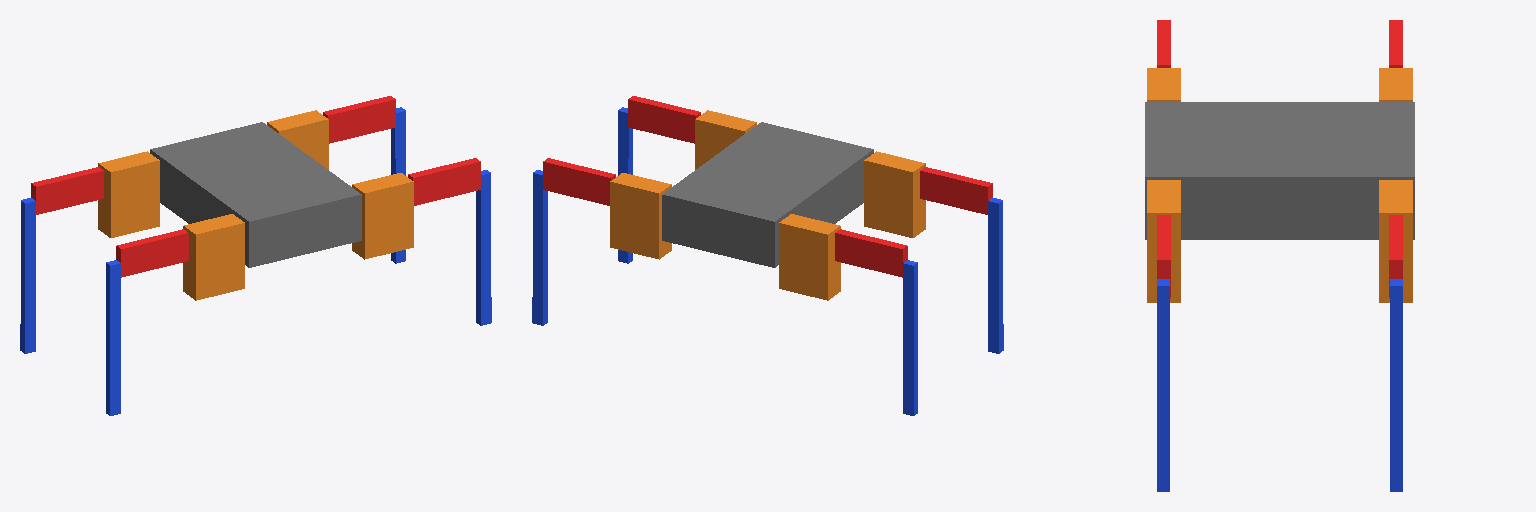
The robot description file, URDF, robot "spider_robot":
<?xml version="1.0"?>
<robot name="spider_robot">

  <!-- ==================== BASE LINK ==================== -->
  <link name="base_link">
    <inertial>
      <origin xyz="0 0 0" rpy="0 0 0"/>
      <mass value="0.5"/>
      <inertia ixx="0.001" ixy="0" ixz="0" iyy="0.0015" iyz="0" izz="0.001"/>
    </inertial>
    <visual>
      <origin xyz="0 0 0" rpy="0 0 0"/>
      <geometry>
        <box size="0.0625 0.0955 0.0246"/>
      </geometry>
      <material name="grey">
        <color rgba="0.5 0.5 0.5 1"/>
      </material>
    </visual>
    <collision>
      <origin xyz="0 0 0" rpy="0 0 0"/>
      <geometry>
        <box size="0.0625 0.0955 0.0246"/>
      </geometry>
    </collision>
  </link>

  <!-- ==================== FRONT LEFT LEG ==================== -->
  
  <!-- FL Hip Joint and Link -->
  <joint name="FL_hip_joint" type="revolute">
    <origin xyz="0.03125 0.04100 0.012" rpy="0 0 0"/>
    <parent link="base_link"/>
    <child link="FL_hip_link"/>
    <axis xyz="0 0 1"/>
    <limit lower="-0.785" upper="0.785" effort="20" velocity="1.57"/>
  </joint>

  <link name="FL_hip_link">
    <inertial>
      <origin xyz="0.01565 0 -0.01755" rpy="0 0 0"/>
      <mass value="0.05"/>
      <inertia ixx="0.00005" ixy="0" ixz="0" iyy="0.00007" iyz="0" izz="0.00005"/>
    </inertial>
    <visual>
      <origin xyz="0.01565 0 -0.01755" rpy="0 0 0"/>
      <geometry>
        <box size="0.0273 0.012 0.0351"/>
      </geometry>
      <material name="orange">
        <color rgba="1 0.6 0.2 1"/>
      </material>
    </visual>
    <collision>
      <origin xyz="0.01565 0 -0.01755" rpy="0 0 0"/>
      <geometry>
        <box size="0.0273 0.012 0.0351"/>
      </geometry>
    </collision>
  </link>

  <!-- FL Thigh Joint and Link -->
  <joint name="FL_thigh_joint" type="revolute">
    <origin xyz="0.03115 0 -0.0075" rpy="0 0 0"/>
    <parent link="FL_hip_link"/>
    <child link="FL_thigh_link"/>
    <axis xyz="0 -1 0"/>
    <limit lower="-0.9" upper="0.9" effort="20" velocity="1.57"/>
  </joint>

  <link name="FL_thigh_link">
    <inertial>
      <origin xyz="0.01875 0 0" rpy="0 0 1.57"/>
      <mass value="0.03"/>
      <inertia ixx="0.00003" ixy="0" ixz="0" iyy="0.00004" iyz="0" izz="0.00002"/>
    </inertial>
    <visual>
      <origin xyz="0.01875 0 0" rpy="0 0 1.57"/>
      <geometry>
        <box size="0.00494 0.0375 0.015"/>
      </geometry>
      <material name="red">
        <color rgba="1 0.2 0.2 1"/>
      </material>
    </visual>
    <collision>
      <origin xyz="0.01875 0 0" rpy="0 0 1.57"/>
      <geometry>
        <box size="0.00494 0.0375 0.015"/>
      </geometry>
    </collision>
  </link>

  <!-- FL Calf Joint and Link -->
  <joint name="FL_calf_joint" type="revolute">
    <origin xyz="0.0375 0 0" rpy="0 1.57 0"/>
    <parent link="FL_thigh_link"/>
    <child link="FL_calf_link"/>
    <axis xyz="0 -1 0"/>
    <limit lower="-0.3" upper="1.57" effort="20" velocity="1.57"/>
  </joint>

  <link name="FL_calf_link">
    <inertial>
      <origin xyz="0.039978 0 0.003" rpy="0 0 0"/>
      <mass value="0.02"/>
      <inertia ixx="0.00001" ixy="0" ixz="0" iyy="0.00002" iyz="0" izz="0.00001"/>
    </inertial>
    <visual>
      <origin xyz="0.039978 0 0.003" rpy="0 0 0"/>
      <geometry>
        <box size="0.079955 0.00455 0.006"/>
      </geometry>
      <material name="blue">
        <color rgba="0.2 0.4 1 1"/>
      </material>
    </visual>
    <collision>
      <origin xyz="0.039978 0 0.003" rpy="0 0 0"/>
      <geometry>
        <box size="0.079955 0.00455 0.006"/>
      </geometry>
    </collision>
  </link>

  <!-- ==================== FRONT RIGHT LEG ==================== -->
  
  <!-- FR Hip Joint and Link -->
  <joint name="RL_hip_joint" type="revolute">
    <origin xyz="0.03125 -0.04100 0.012" rpy="0 0 0"/>
    <parent link="base_link"/>
    <child link="RL_hip_link"/>
    <axis xyz="0 0 1"/>
    <limit lower="-0.785" upper="0.785" effort="20" velocity="1.57"/>
  </joint>

  <link name="RL_hip_link">
    <inertial>
      <origin xyz="0.01565 0 -0.01755" rpy="0 0 0"/>
      <mass value="0.05"/>
      <inertia ixx="0.00005" ixy="0" ixz="0" iyy="0.00007" iyz="0" izz="0.00005"/>
    </inertial>
    <visual>
      <origin xyz="0.01565 0 -0.01755" rpy="0 0 0"/>
      <geometry>
        <box size="0.0273 0.012 0.0351"/>
      </geometry>
      <material name="orange">
        <color rgba="1 0.6 0.2 1"/>
      </material>
    </visual>
    <collision>
      <origin xyz="0.01565 0 -0.01755" rpy="0 0 0"/>
      <geometry>
        <box size="0.0273 0.012 0.0351"/>
      </geometry>
    </collision>
  </link>

  <!-- FR Thigh Joint and Link -->
  <joint name="RL_thigh_joint" type="revolute">
    <origin xyz="0.03115 0 -0.0075" rpy="0 0 0"/>
    <parent link="RL_hip_link"/>
    <child link="RL_thigh_link"/>
    <axis xyz="0 -1 0"/>
    <limit lower="-0.9" upper="0.9" effort="20" velocity="1.57"/>
  </joint>

  <link name="RL_thigh_link">
    <inertial>
      <origin xyz="0.01875 0 0" rpy="0 0 1.57"/>
      <mass value="0.03"/>
      <inertia ixx="0.00003" ixy="0" ixz="0" iyy="0.00004" iyz="0" izz="0.00002"/>
    </inertial>
    <visual>
      <origin xyz="0.01875 0 0" rpy="0 0 1.57"/>
      <geometry>
        <box size="0.00494 0.0375 0.015"/>
      </geometry>
      <material name="red">
        <color rgba="1 0.2 0.2 1"/>
      </material>
    </visual>
    <collision>
      <origin xyz="0.01875 0 0" rpy="0 0 1.57"/>
      <geometry>
        <box size="0.00494 0.0375 0.015"/>
      </geometry>
    </collision>
  </link>

  <!-- FR Calf Joint and Link -->
  <joint name="RL_calf_joint" type="revolute">
    <origin xyz="0.0375 0 0" rpy="0 1.57 0"/>
    <parent link="RL_thigh_link"/>
    <child link="RL_calf_link"/>
    <axis xyz="0 -1 0"/>
    <limit lower="-0.3" upper="1.57" effort="20" velocity="1.57"/>
  </joint>

  <link name="RL_calf_link">
    <inertial>
      <origin xyz="0.039978 0 0.003" rpy="0 0 0"/>
      <mass value="0.02"/>
      <inertia ixx="0.00001" ixy="0" ixz="0" iyy="0.00002" iyz="0" izz="0.00001"/>
    </inertial>
    <visual>
      <origin xyz="0.039978 0 0.003" rpy="0 0 0"/>
      <geometry>
        <box size="0.079955 0.00455 0.006"/>
      </geometry>
      <material name="blue">
        <color rgba="0.2 0.4 1 1"/>
      </material>
    </visual>
    <collision>
      <origin xyz="0.039978 0 0.003" rpy="0 0 0"/>
      <geometry>
        <box size="0.079955 0.00455 0.006"/>
      </geometry>
    </collision>
  </link>

  <!-- ==================== REAR LEFT LEG ==================== -->
  
  <!-- RL Hip Joint and Link -->
  <joint name="FR_hip_joint" type="revolute">
    <origin xyz="-0.03125 0.04100 0.012" rpy="0 0 0"/>
    <parent link="base_link"/>
    <child link="FR_hip_link"/>
    <axis xyz="0 0 -1"/>
    <limit lower="-0.785" upper="0.785" effort="20" velocity="1.57"/>
  </joint>

  <link name="FR_hip_link">
    <inertial>
      <origin xyz="-0.01565 0 -0.01755" rpy="0 0 0"/>
      <mass value="0.05"/>
      <inertia ixx="0.00005" ixy="0" ixz="0" iyy="0.00007" iyz="0" izz="0.00005"/>
    </inertial>
    <visual>
      <origin xyz="-0.01565 0 -0.01755" rpy="0 0 0"/>
      <geometry>
        <box size="0.0273 0.012 0.0351"/>
      </geometry>
      <material name="orange">
        <color rgba="1 0.6 0.2 1"/>
      </material>
    </visual>
    <collision>
      <origin xyz="-0.01565 0 -0.01755" rpy="0 0 0"/>
      <geometry>
        <box size="0.0273 0.012 0.0351"/>
      </geometry>
    </collision>
  </link>

  <!-- RL Thigh Joint and Link -->
  <joint name="FR_thigh_joint" type="revolute">
    <origin xyz="-0.03115 0 -0.0075" rpy="0 0 0"/>
    <parent link="FR_hip_link"/>
    <child link="FR_thigh_link"/>
    <axis xyz="0 1 0"/>
    <limit lower="-0.9" upper="0.9" effort="20" velocity="1.57"/>
  </joint>

  <link name="FR_thigh_link">
    <inertial>
      <origin xyz="-0.01875 0 0" rpy="0 0 1.57"/>
      <mass value="0.03"/>
      <inertia ixx="0.00003" ixy="0" ixz="0" iyy="0.00004" iyz="0" izz="0.00002"/>
    </inertial>
    <visual>
      <origin xyz="-0.01875 0 0" rpy="0 0 1.57"/>
      <geometry>
        <box size="0.00494 0.0375 0.015"/>
      </geometry>
      <material name="red">
        <color rgba="1 0.2 0.2 1"/>
      </material>
    </visual>
    <collision>
      <origin xyz="-0.01875 0 0" rpy="0 0 1.57"/>
      <geometry>
        <box size="0.00494 0.0375 0.015"/>
      </geometry>
    </collision>
  </link>

  <!-- RL Calf Joint and Link -->
  <joint name="FR_calf_joint" type="revolute">
    <origin xyz="-0.0375 0 0" rpy="0 -1.57 0"/>
    <parent link="FR_thigh_link"/>
    <child link="FR_calf_link"/>
    <axis xyz="0 1 0"/>
    <limit lower="-0.3" upper="1.57" effort="20" velocity="1.57"/>
  </joint>

  <link name="FR_calf_link">
    <inertial>
      <origin xyz="-0.039978 0 0.003" rpy="0 0 0"/>
      <mass value="0.02"/>
      <inertia ixx="0.00001" ixy="0" ixz="0" iyy="0.00002" iyz="0" izz="0.00001"/>
    </inertial>
    <visual>
      <origin xyz="-0.039978 0 0.003" rpy="0 0 0"/>
      <geometry>
        <box size="0.079955 0.00455 0.006"/>
      </geometry>
      <material name="blue">
        <color rgba="0.2 0.4 1 1"/>
      </material>
    </visual>
    <collision>
      <origin xyz="-0.039978 0 0.003" rpy="0 0 0"/>
      <geometry>
        <box size="0.079955 0.00455 0.006"/>
      </geometry>
    </collision>
  </link>

  <!-- ==================== REAR RIGHT LEG ==================== -->
  
  <!-- RR Hip Joint and Link -->
  <joint name="RR_hip_joint" type="revolute">
    <origin xyz="-0.03125 -0.04100 0.012" rpy="0 0 0"/>
    <parent link="base_link"/>
    <child link="RR_hip_link"/>
    <axis xyz="0 0 -1"/>
    <limit lower="-0.785" upper="0.785" effort="20" velocity="1.57"/>
  </joint>

  <link name="RR_hip_link">
    <inertial>
      <origin xyz="-0.01565 0 -0.01755" rpy="0 0 0"/>
      <mass value="0.05"/>
      <inertia ixx="0.00005" ixy="0" ixz="0" iyy="0.00007" iyz="0" izz="0.00005"/>
    </inertial>
    <visual>
      <origin xyz="-0.01565 0 -0.01755" rpy="0 0 0"/>
      <geometry>
        <box size="0.0273 0.012 0.0351"/>
      </geometry>
      <material name="orange">
        <color rgba="1 0.6 0.2 1"/>
      </material>
    </visual>
    <collision>
      <origin xyz="-0.01565 0 -0.01755" rpy="0 0 0"/>
      <geometry>
        <box size="0.0273 0.012 0.0351"/>
      </geometry>
    </collision>
  </link>

  <!-- RR Thigh Joint and Link -->
  <joint name="RR_thigh_joint" type="revolute">
    <origin xyz="-0.03115 0 -0.0075" rpy="0 0 0"/>
    <parent link="RR_hip_link"/>
    <child link="RR_thigh_link"/>
    <axis xyz="0 1 0"/>
    <limit lower="-0.9" upper="0.9" effort="20" velocity="1.57"/>
  </joint>

  <link name="RR_thigh_link">
    <inertial>
      <origin xyz="-0.01875 0 0" rpy="0 0 1.57"/>
      <mass value="0.03"/>
      <inertia ixx="0.00003" ixy="0" ixz="0" iyy="0.00004" iyz="0" izz="0.00002"/>
    </inertial>
    <visual>
      <origin xyz="-0.01875 0 0" rpy="0 0 1.57"/>
      <geometry>
        <box size="0.00494 0.0375 0.015"/>
      </geometry>
      <material name="red">
        <color rgba="1 0.2 0.2 1"/>
      </material>
    </visual>
    <collision>
      <origin xyz="-0.01875 0 0" rpy="0 0 1.57"/>
      <geometry>
        <box size="0.00494 0.0375 0.015"/>
      </geometry>
    </collision>
  </link>

  <!-- RR Calf Joint and Link -->
  <joint name="RR_calf_joint" type="revolute">
    <origin xyz="-0.0375 0 0" rpy="0 -1.57 0"/>
    <parent link="RR_thigh_link"/>
    <child link="RR_calf_link"/>
    <axis xyz="0 1 0"/>
    <limit lower="-0.3" upper="1.57" effort="20" velocity="1.57"/>
  </joint>

  <link name="RR_calf_link">
    <inertial>
      <origin xyz="-0.039978 0 0.003" rpy="0 0 0"/>
      <mass value="0.02"/>
      <inertia ixx="0.00001" ixy="0" ixz="0" iyy="0.00002" iyz="0" izz="0.00001"/>
    </inertial>
    <visual>
      <origin xyz="-0.039978 0 0.003" rpy="0 0 0"/>
      <geometry>
        <box size="0.079955 0.00455 0.006"/>
      </geometry>
      <material name="blue">
        <color rgba="0.2 0.4 1 1"/>
      </material>
    </visual>
    <collision>
      <origin xyz="-0.039978 0 0.003" rpy="0 0 0"/>
      <geometry>
        <box size="0.079955 0.00455 0.006"/>
      </geometry>
    </collision>
  </link>

</robot>

--- Render facts (derived) ---
The picture shows the robot from 3 angles, left to right: view 1: azimuth 30°, elevation 25°; view 2: azimuth 150°, elevation 25°; view 3: azimuth 270°, elevation 25°; orthographic projection.
Robot: spider_robot — 13 links, 12 joints (12 revolute); root link base_link; default pose: every joint at zero.
Links seen in each view (by area): view 1: base_link, RR_hip_link, FR_hip_link, RL_hip_link, FR_calf_link, FR_thigh_link, RR_thigh_link, RR_calf_link, RL_thigh_link, FL_thigh_link, RL_calf_link, FL_hip_link (+1 smaller); view 2: base_link, FR_hip_link, RR_hip_link, FL_hip_link, RR_calf_link, RR_thigh_link, FR_thigh_link, FR_calf_link, RL_thigh_link, FL_thigh_link, FL_calf_link, RL_hip_link (+1 smaller); view 3: base_link, FL_hip_link, RL_hip_link, FL_calf_link, RL_calf_link, FR_hip_link, RR_hip_link, FL_thigh_link, RL_thigh_link, FR_thigh_link, RR_thigh_link.
Link boxes in pixels (bbox=[...]): base_link: bbox=[150, 122, 361, 267]; RR_hip_link: bbox=[183, 214, 244, 300]; FR_hip_link: bbox=[98, 151, 159, 237]; RL_hip_link: bbox=[352, 173, 413, 259]; FR_calf_link: bbox=[20, 198, 35, 353]; FR_thigh_link: bbox=[31, 167, 103, 214]; RR_thigh_link: bbox=[116, 229, 188, 277]; RR_calf_link: bbox=[106, 260, 120, 415]; RL_thigh_link: bbox=[408, 158, 480, 205]; FL_thigh_link: bbox=[323, 96, 395, 143]; RL_calf_link: bbox=[476, 170, 491, 325]; FL_hip_link: bbox=[267, 110, 328, 169]; base_link: bbox=[662, 122, 873, 267]; FR_hip_link: bbox=[779, 214, 840, 300]; RR_hip_link: bbox=[864, 151, 925, 237]; FL_hip_link: bbox=[610, 173, 671, 259]; RR_calf_link: bbox=[988, 198, 1003, 353]; RR_thigh_link: bbox=[920, 167, 992, 214]; FR_thigh_link: bbox=[835, 229, 907, 277]; FR_calf_link: bbox=[903, 260, 917, 415]; RL_thigh_link: bbox=[628, 96, 700, 143]; FL_thigh_link: bbox=[543, 158, 615, 205]; FL_calf_link: bbox=[532, 170, 547, 325]; RL_hip_link: bbox=[695, 110, 756, 169]; base_link: bbox=[1145, 102, 1414, 239]; FL_hip_link: bbox=[1379, 180, 1412, 302]; RL_hip_link: bbox=[1147, 180, 1180, 302]; FL_calf_link: bbox=[1390, 279, 1402, 491]; RL_calf_link: bbox=[1157, 279, 1169, 491]; FR_hip_link: bbox=[1379, 68, 1412, 101]; RR_hip_link: bbox=[1147, 68, 1180, 101]; FL_thigh_link: bbox=[1389, 215, 1402, 297]; RL_thigh_link: bbox=[1157, 215, 1170, 297]; FR_thigh_link: bbox=[1389, 20, 1402, 67]; RR_thigh_link: bbox=[1157, 20, 1170, 67].
Bounding box of the posed robot: 0.2119 × 0.0955 × 0.0878 m (x, y, z).
Geometry: primitives only (box / cylinder / sphere), no mesh files.
